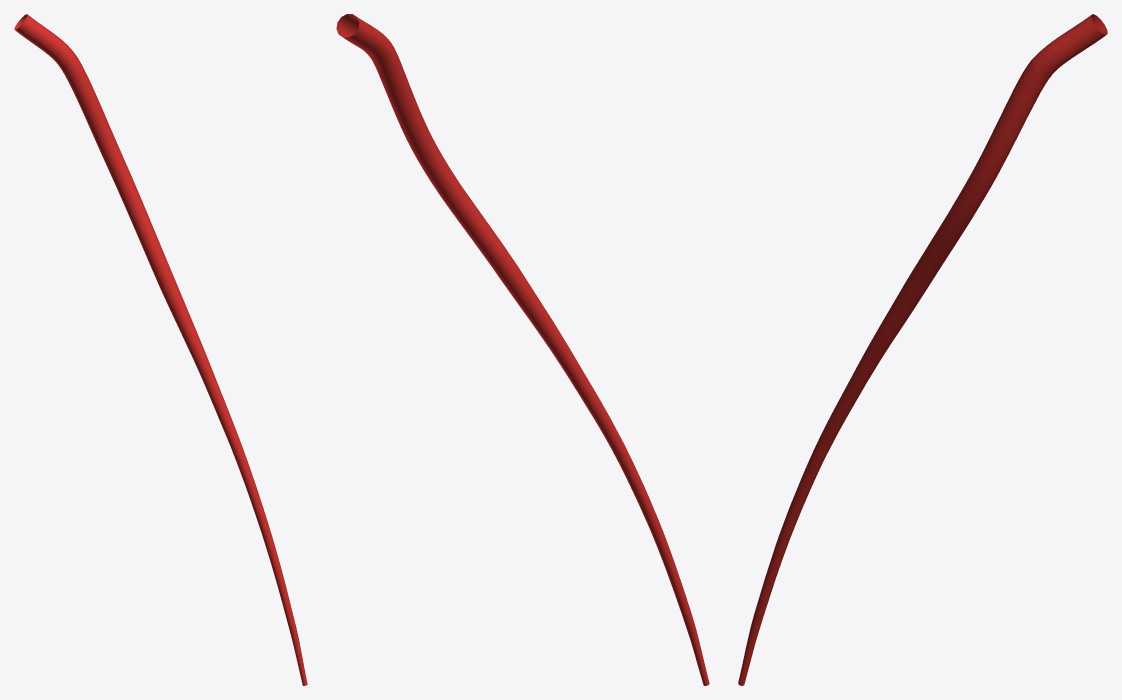
The model's file is circulatorio-thoraco-acromial-artery-r.glb.
The picture shows the model from 3 angles, left to right: view 1: azimuth 90°, elevation 25°; view 2: azimuth 150°, elevation 25°; view 3: azimuth 270°, elevation 25°; orthographic projection. The views are drawn at different scales.
Parts seen in each view (by area): view 1: Pectoral branches of thoraco-acromial artery.r, Thoraco-acromial artery.r; view 2: Pectoral branches of thoraco-acromial artery.r, Thoraco-acromial artery.r; view 3: Pectoral branches of thoraco-acromial artery.r, Thoraco-acromial artery.r.
Boxes of the visible parts, x1,y1,x2,y2 form: Pectoral branches of thoraco-acromial artery.r: [59, 53, 307, 685]; Thoraco-acromial artery.r: [14, 14, 74, 65]; Pectoral branches of thoraco-acromial artery.r: [371, 43, 709, 685]; Thoraco-acromial artery.r: [336, 14, 392, 60]; Pectoral branches of thoraco-acromial artery.r: [738, 60, 1051, 685]; Thoraco-acromial artery.r: [1032, 14, 1107, 76].
Bounding box in the file's own units: 0.0348 × 0.1297 × 0.0574.
